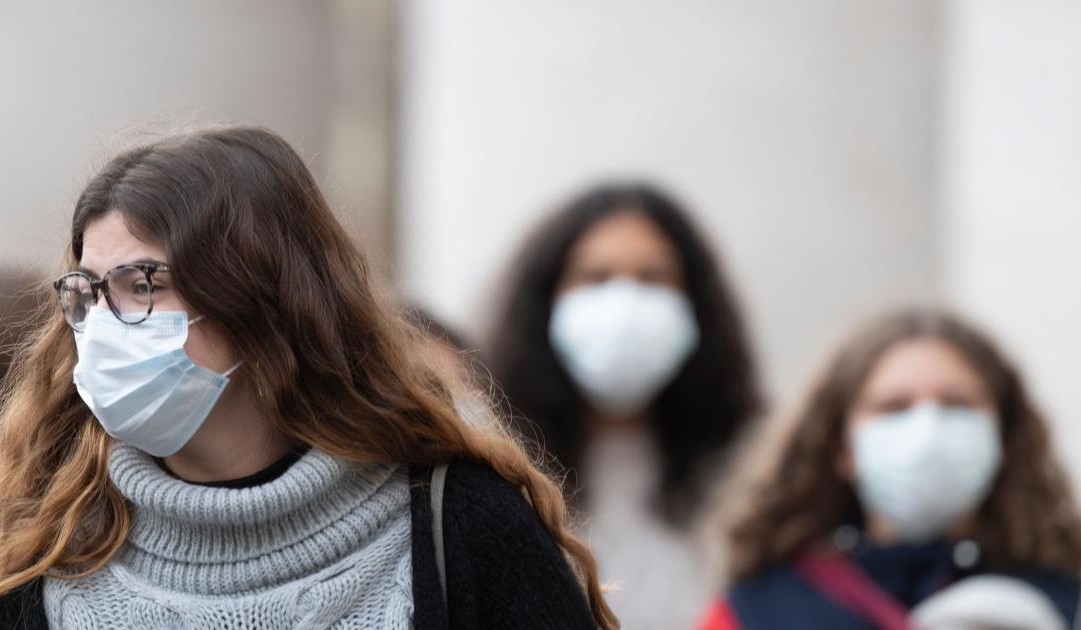with_mask: (52, 201, 254, 469), (826, 334, 1027, 548), (540, 202, 716, 438)
